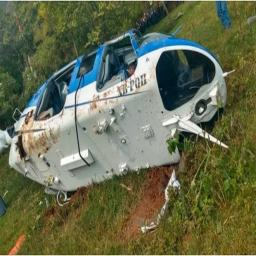helicopter: (2, 7, 233, 216)
